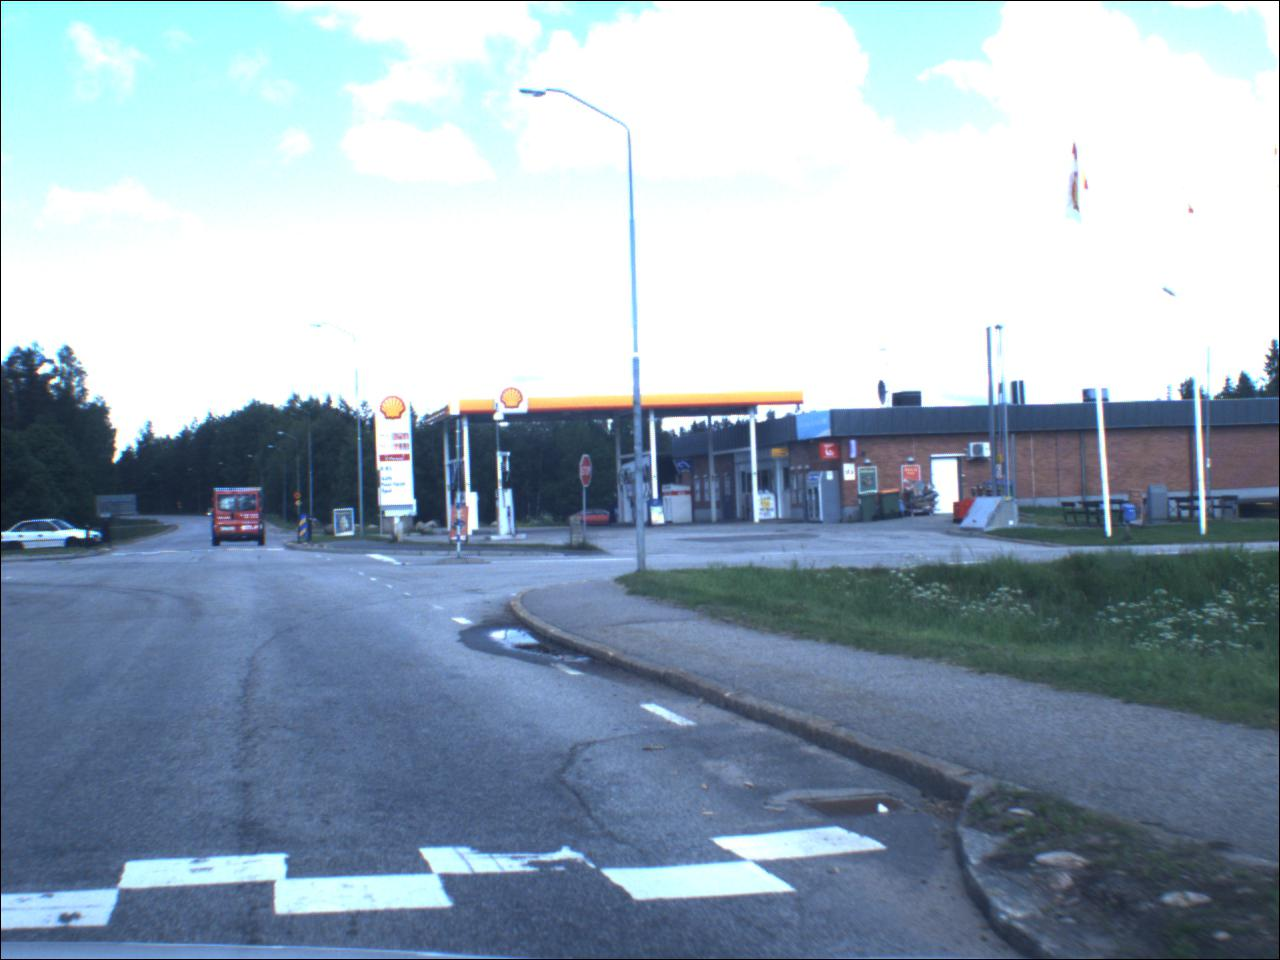50_SIGN: (294, 493, 304, 502)
PRIORITY_ROAD: (297, 502, 306, 510)
STOP: (579, 455, 597, 490)
